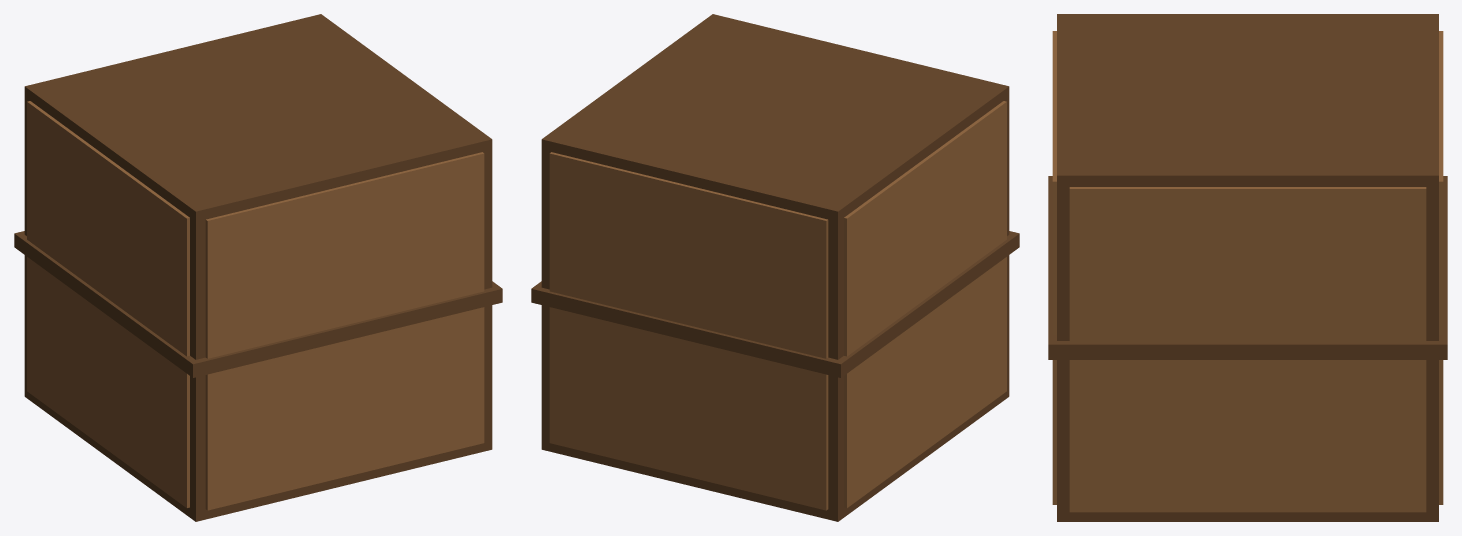
Rendered from crate_big.glb.
The picture shows the model from 3 angles, left to right: view 1: azimuth 30°, elevation 25°; view 2: azimuth 150°, elevation 25°; view 3: azimuth 270°, elevation 25°; orthographic projection. The views are drawn at different scales.
Visible parts, largest first — view 1: crate_big; view 2: crate_big; view 3: crate_big.
Part boxes in pixels (x1=…): crate_big: x1=14, y1=14, x2=502, y2=521; crate_big: x1=531, y1=14, x2=1019, y2=521; crate_big: x1=1048, y1=14, x2=1447, y2=521.
Size of the model in its own units: 0.47 by 0.45 by 0.47.
1 material, 1 textured.
